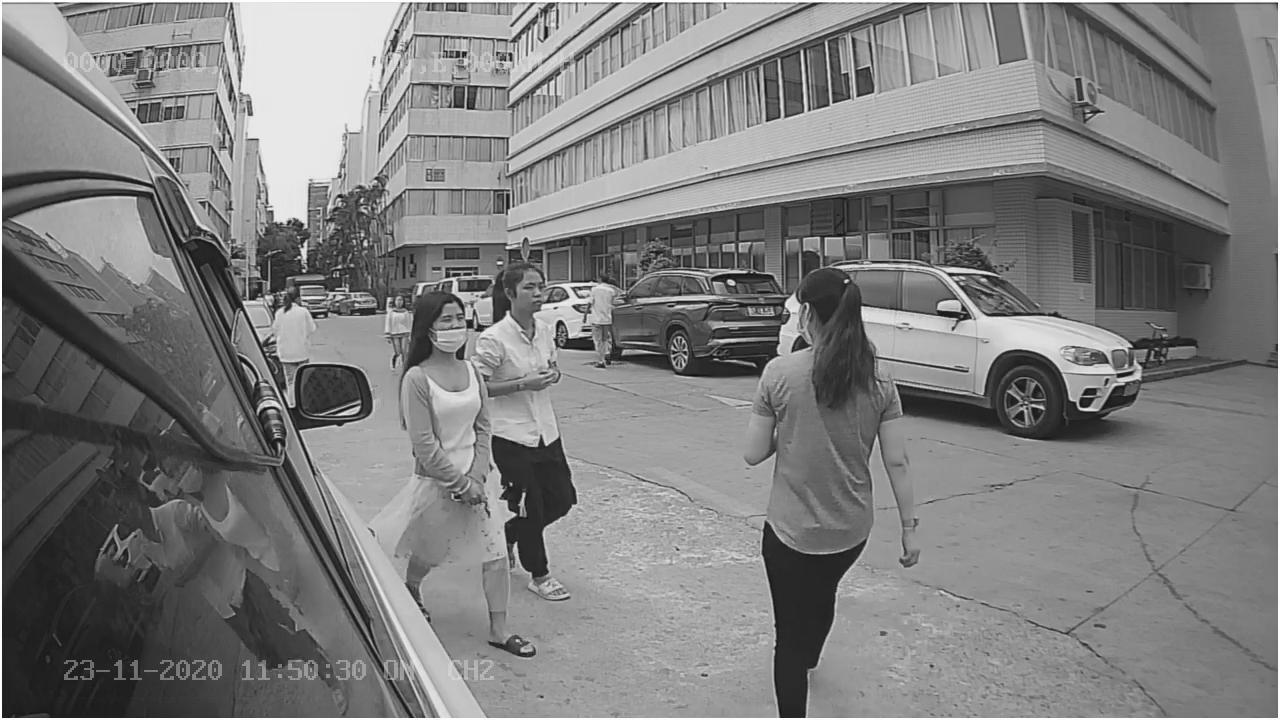person: (745, 271, 921, 511), (374, 286, 506, 510)
